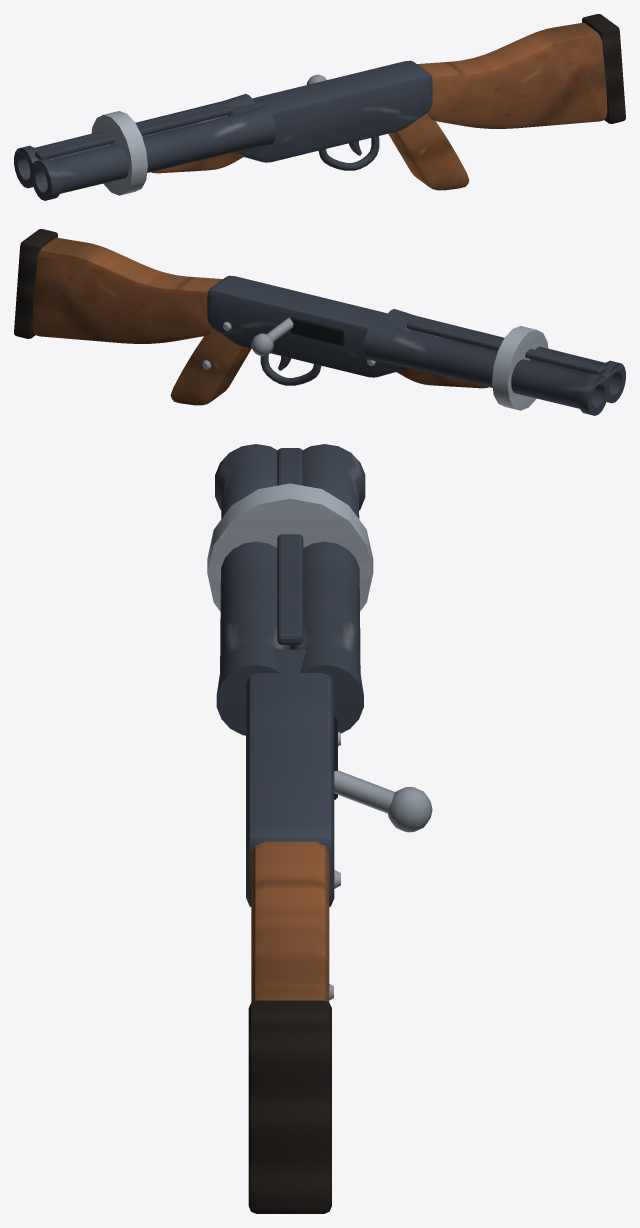
The model's file is Shotgun.fbx.
3 renders of one model, top to bottom at view 1: azimuth 30°, elevation 25°; view 2: azimuth 150°, elevation 25°; view 3: azimuth 270°, elevation 25°, orthographic. The views are drawn at different scales.
Parts seen in each view (by area): view 1: Shotgun; view 2: Shotgun; view 3: Shotgun.
Boxes of the visible parts, <box> form: Shotgun: <box>14,14,625,200</box>; Shotgun: <box>14,229,625,415</box>; Shotgun: <box>207,444,432,1213</box>.
Bounding box in the file's own units: 1.3 × 0.3162 × 0.2168.
Materials: 5 (5 with a texture image).
